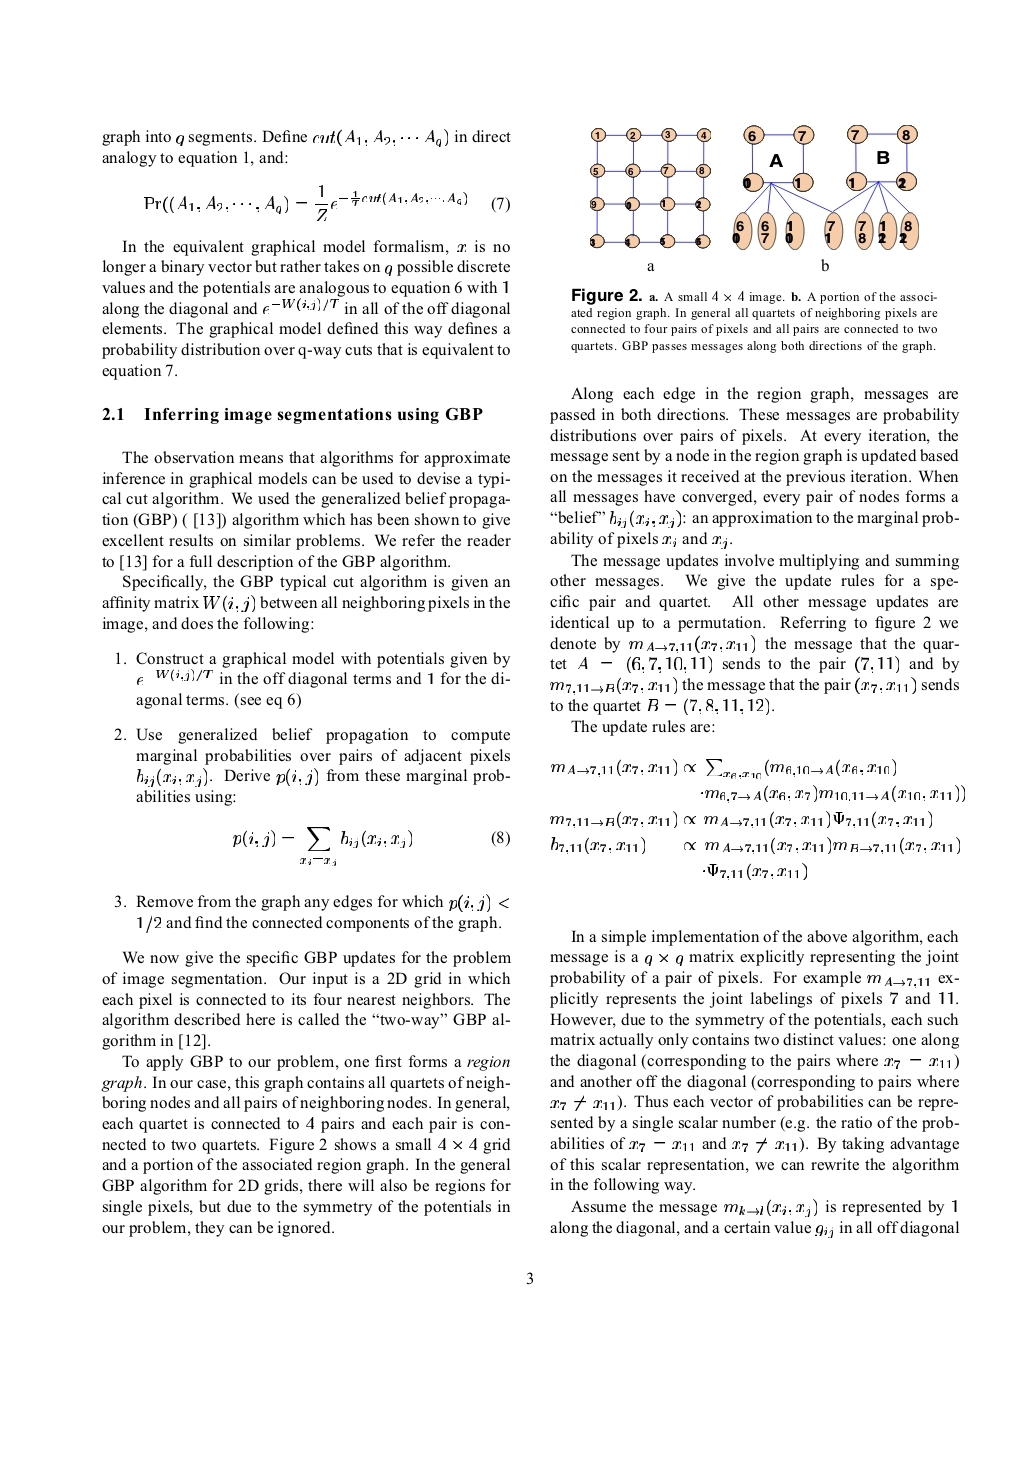figure: (736, 125, 918, 249), (590, 128, 710, 248)
formula: (144, 184, 509, 221), (233, 827, 509, 864), (551, 835, 958, 854), (551, 759, 895, 779), (550, 810, 931, 828), (701, 784, 964, 803), (703, 862, 806, 880)
